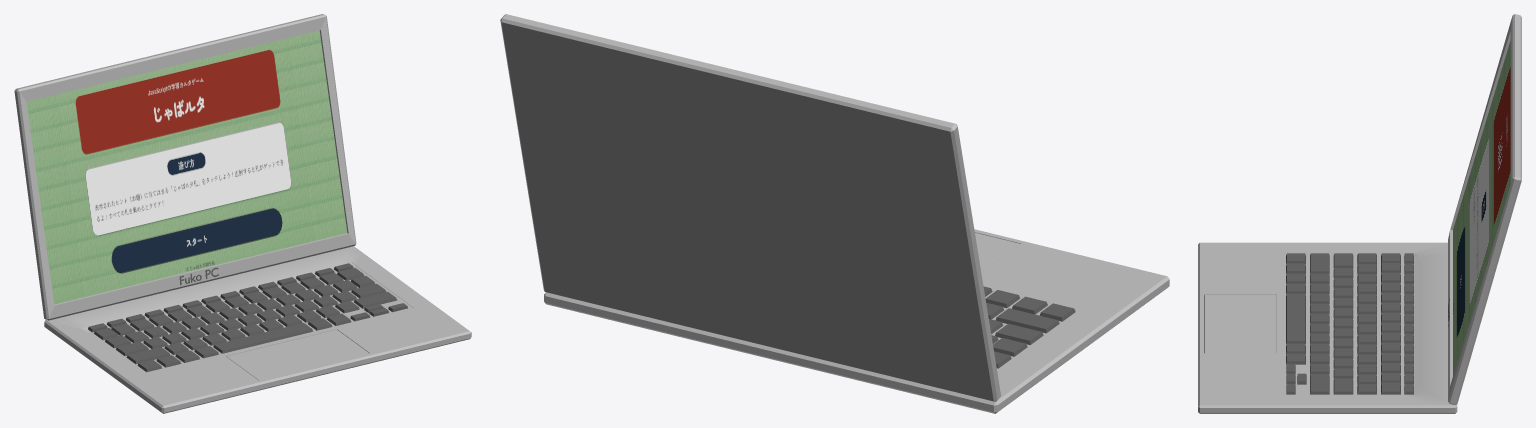
Rendered from java-pc.glb.
3 views of the same model, side by side, from view 1: azimuth 30°, elevation 25°; view 2: azimuth 150°, elevation 25°; view 3: azimuth 270°, elevation 25° (orthographic). The views are drawn at different scales.
Parts seen in each view (by area): view 1: Cube.001, Cube, Cube.002; view 2: Cube.001, Cube, Cube.002; view 3: Cube, Cube.002, Cube.001.
Part boxes in pixels (<box>): Cube.001: <box>14,14,356,320</box>; Cube: <box>44,246,471,413</box>; Cube.002: <box>88,263,407,372</box>; Cube.001: <box>500,14,1000,401</box>; Cube: <box>544,229,1169,413</box>; Cube.002: <box>983,286,1075,368</box>; Cube: <box>1198,242,1457,413</box>; Cube.002: <box>1286,253,1413,394</box>; Cube.001: <box>1448,14,1521,404</box>.
Size of the model in its own units: 2.4 by 1.63 by 2.
Materials: 3 (1 with a texture image).
